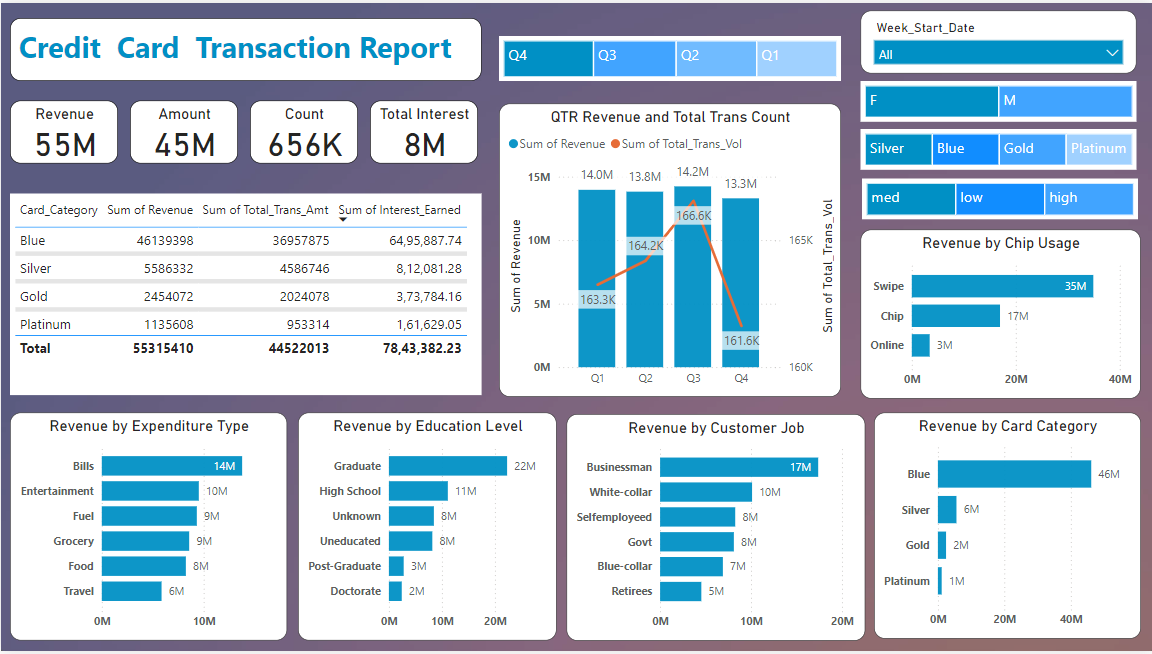

The dashboard page shown, as its layout file describes it:
{"tool":"powerbi","page":{"name":"cc_detail","canvas":[1280,720],"ordinal":1},"visuals":[{"type":"textbox","box":[10,16,524,70],"z":0},{"type":"lineStackedColumnComboChart","title":"QTR Revenue and Total Trans Count","fields":{"Category":["credit_card.Qtr"],"Y":["Sum(credit_card.Revenue)"],"Y2":["Sum(credit_card.Total_Trans_Vol)"]},"box":[554,112,380,326],"z":1000},{"type":"barChart","title":"Revenue by Expenditure Type","fields":{"Y":["Sum(credit_card.Revenue)"],"Category":["credit_card.Exp Type"]},"box":[9.4,455.4,308,253.2],"z":2000},{"type":"barChart","title":"Revenue by Education Level","fields":{"Y":["Sum(credit_card.Revenue)"],"Category":["customer.Education_Level"]},"box":[330.7,455.4,287.2,253.2],"z":3000},{"type":"barChart","title":"Revenue by Customer Job","fields":{"Y":["Sum(credit_card.Revenue)"],"Category":["customer.Customer_Job"]},"box":[628.3,456.7,331.7,251.7],"z":4000},{"type":"barChart","title":"Revenue by Card Category","fields":{"Y":["Sum(credit_card.Revenue)"],"Category":["credit_card.Card_Category"]},"box":[969.5,455.4,296.7,251.3],"z":5000},{"type":"barChart","title":"Revenue by Chip Usage","fields":{"Y":["Sum(credit_card.Revenue)"],"Category":["credit_card.Use Chip"]},"box":[955.6,251.1,311.1,187.8],"z":6000},{"type":"tableEx","fields":{"Values":["credit_card.Card_Category","Sum(credit_card.Revenue)","Sum(credit_card.Total_Trans_Amt)","Sum(credit_card.Interest_Earned)"]},"box":[10,212,524,224],"z":7000},{"type":"card","title":"Revenue","fields":{"Values":["Sum(credit_card.Revenue)"]},"box":[10,108.3,120,70],"z":8000},{"type":"card","title":"Amount","fields":{"Values":["Sum(credit_card.Total_Trans_Amt)"]},"box":[144,108,120,70],"z":9000},{"type":"card","title":"Total Interest","fields":{"Values":["Sum(credit_card.Interest_Earned)"]},"box":[410,108,120,70],"z":10000},{"type":"card","title":"Count","fields":{"Values":["Sum(credit_card.Total_Trans_Vol)"]},"box":[276,108,120,70],"z":11000},{"type":"slicer","fields":{"Values":["credit_card.Week_Start_Date"]},"box":[955,8.3,306.7,70],"z":12000},{"type":"treemap","fields":{"Group":["credit_card.Qtr"],"Values":["Avg(credit_card.Client_Num)"]},"box":[554,36,380,50],"z":13000},{"type":"treemap","fields":{"Group":["customer.Gender"],"Values":["Avg(credit_card.Client_Num)"]},"box":[955,86.7,306.7,45],"z":14000},{"type":"treemap","fields":{"Group":["credit_card.Card_Category"],"Values":["Avg(credit_card.Client_Num)"]},"box":[955,140,306.7,45],"z":15000},{"type":"treemap","fields":{"Group":["customer.Income_group"],"Values":["Avg(credit_card.Client_Num)"]},"box":[956.4,194.5,306.4,45.5],"z":16000}]}

Visuals, with their boxes in screenshot pixels (x1, y1, x2, y2), scaled from the page's 1280x720 canvas onto the 1152x654 screenshot:
textbox: (x1=9, y1=15, x2=481, y2=78)
"QTR Revenue and Total Trans Count" lineStackedColumnComboChart: (x1=499, y1=102, x2=841, y2=398)
"Revenue by Expenditure Type" barChart: (x1=8, y1=414, x2=286, y2=644)
"Revenue by Education Level" barChart: (x1=298, y1=414, x2=556, y2=644)
"Revenue by Customer Job" barChart: (x1=565, y1=415, x2=864, y2=643)
"Revenue by Card Category" barChart: (x1=873, y1=414, x2=1140, y2=642)
"Revenue by Chip Usage" barChart: (x1=860, y1=228, x2=1140, y2=399)
tableEx - credit_card.Card_Category x Sum(credit_card.Revenue): (x1=9, y1=193, x2=481, y2=396)
"Revenue" card: (x1=9, y1=98, x2=117, y2=162)
"Amount" card: (x1=130, y1=98, x2=238, y2=162)
"Total Interest" card: (x1=369, y1=98, x2=477, y2=162)
"Count" card: (x1=248, y1=98, x2=356, y2=162)
slicer - credit_card.Week_Start_Date: (x1=860, y1=8, x2=1136, y2=71)
treemap - credit_card.Qtr x Avg(credit_card.Client_Num): (x1=499, y1=33, x2=841, y2=78)
treemap - customer.Gender x Avg(credit_card.Client_Num): (x1=860, y1=79, x2=1136, y2=120)
treemap - credit_card.Card_Category x Avg(credit_card.Client_Num): (x1=860, y1=127, x2=1136, y2=168)
treemap - customer.Income_group x Avg(credit_card.Client_Num): (x1=861, y1=177, x2=1137, y2=218)
